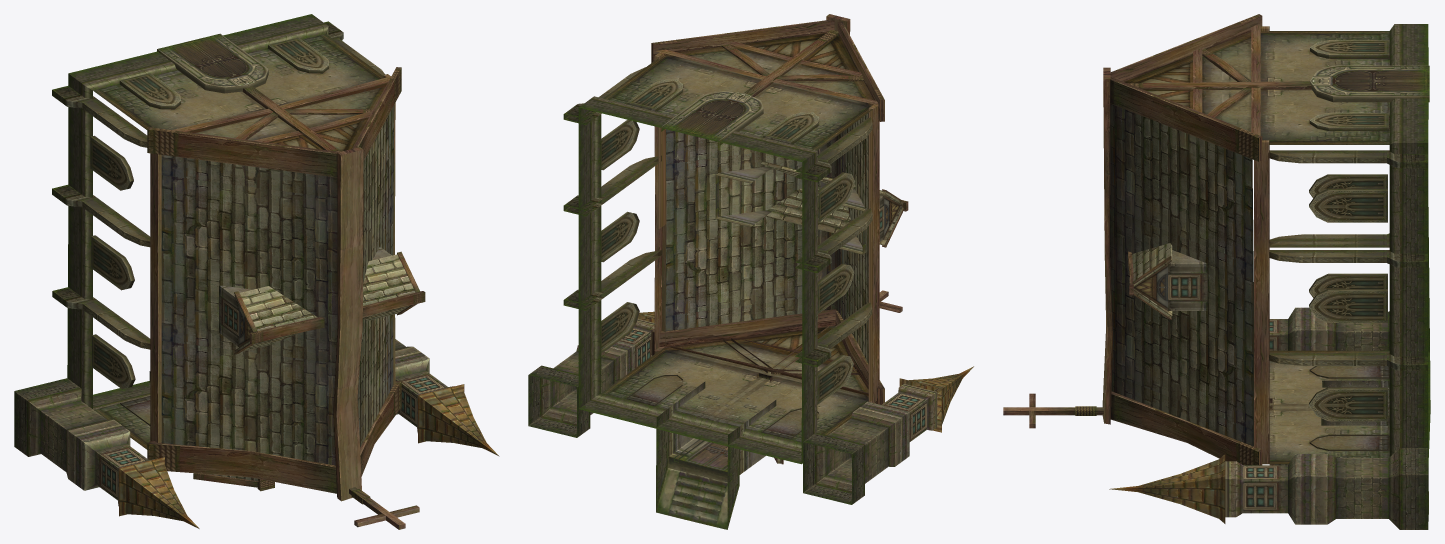
The model's file is zhanchang_fuben_308_jiaotang03.obj.
The picture shows the model from 3 angles, left to right: view 1: azimuth 30°, elevation 25°; view 2: azimuth 150°, elevation 25°; view 3: azimuth 270°, elevation 25°; orthographic projection. The views are drawn at different scales.
Parts seen in each view (by area): view 1: zhanchang_fuben_308_jiaotang03; view 2: zhanchang_fuben_308_jiaotang03; view 3: zhanchang_fuben_308_jiaotang03.
Part boxes in pixels (left/top/right/bottom): zhanchang_fuben_308_jiaotang03: left=14, top=14, right=499, bottom=529; zhanchang_fuben_308_jiaotang03: left=528, top=14, right=973, bottom=529; zhanchang_fuben_308_jiaotang03: left=1003, top=14, right=1430, bottom=529.
Size of the model in its own units: 658 by 768 by 691.
9 materials, 9 textured.
